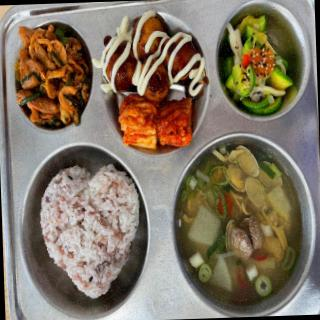Nasi: (41, 164, 144, 301)
